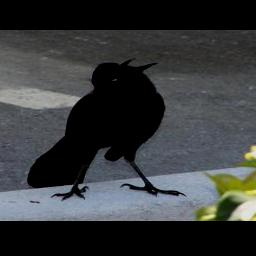Crow: (28, 57, 188, 200)
